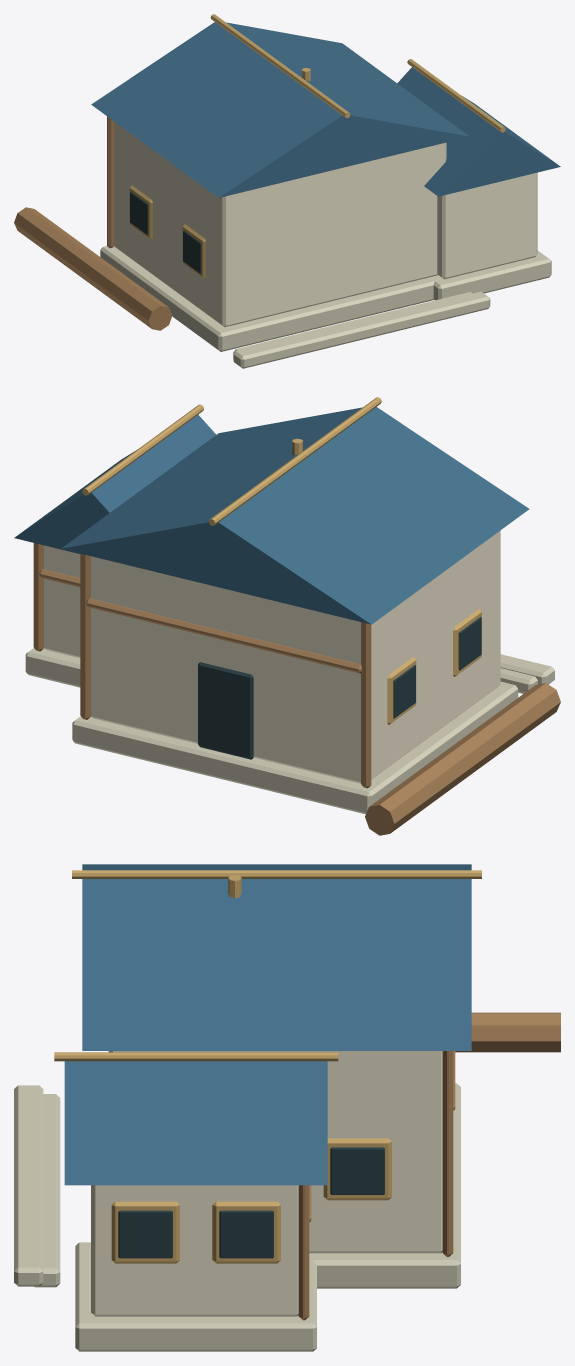
The model's file is level_14.glb.
3 renders of one model, top to bottom at view 1: azimuth 30°, elevation 25°; view 2: azimuth 150°, elevation 25°; view 3: azimuth 270°, elevation 25°, orthographic. The views are drawn at different scales.
Parts seen in each view (by area): view 1: timber_yard — level 14; view 2: timber_yard — level 14; view 3: timber_yard — level 14.
Part boxes in pixels (x1=…): timber_yard — level 14: x1=14, y1=14, x2=560, y2=368; timber_yard — level 14: x1=14, y1=397, x2=560, y2=835; timber_yard — level 14: x1=14, y1=864, x2=560, y2=1351.
Size of the model in its own units: 6.43 by 3.47 by 5.2.
